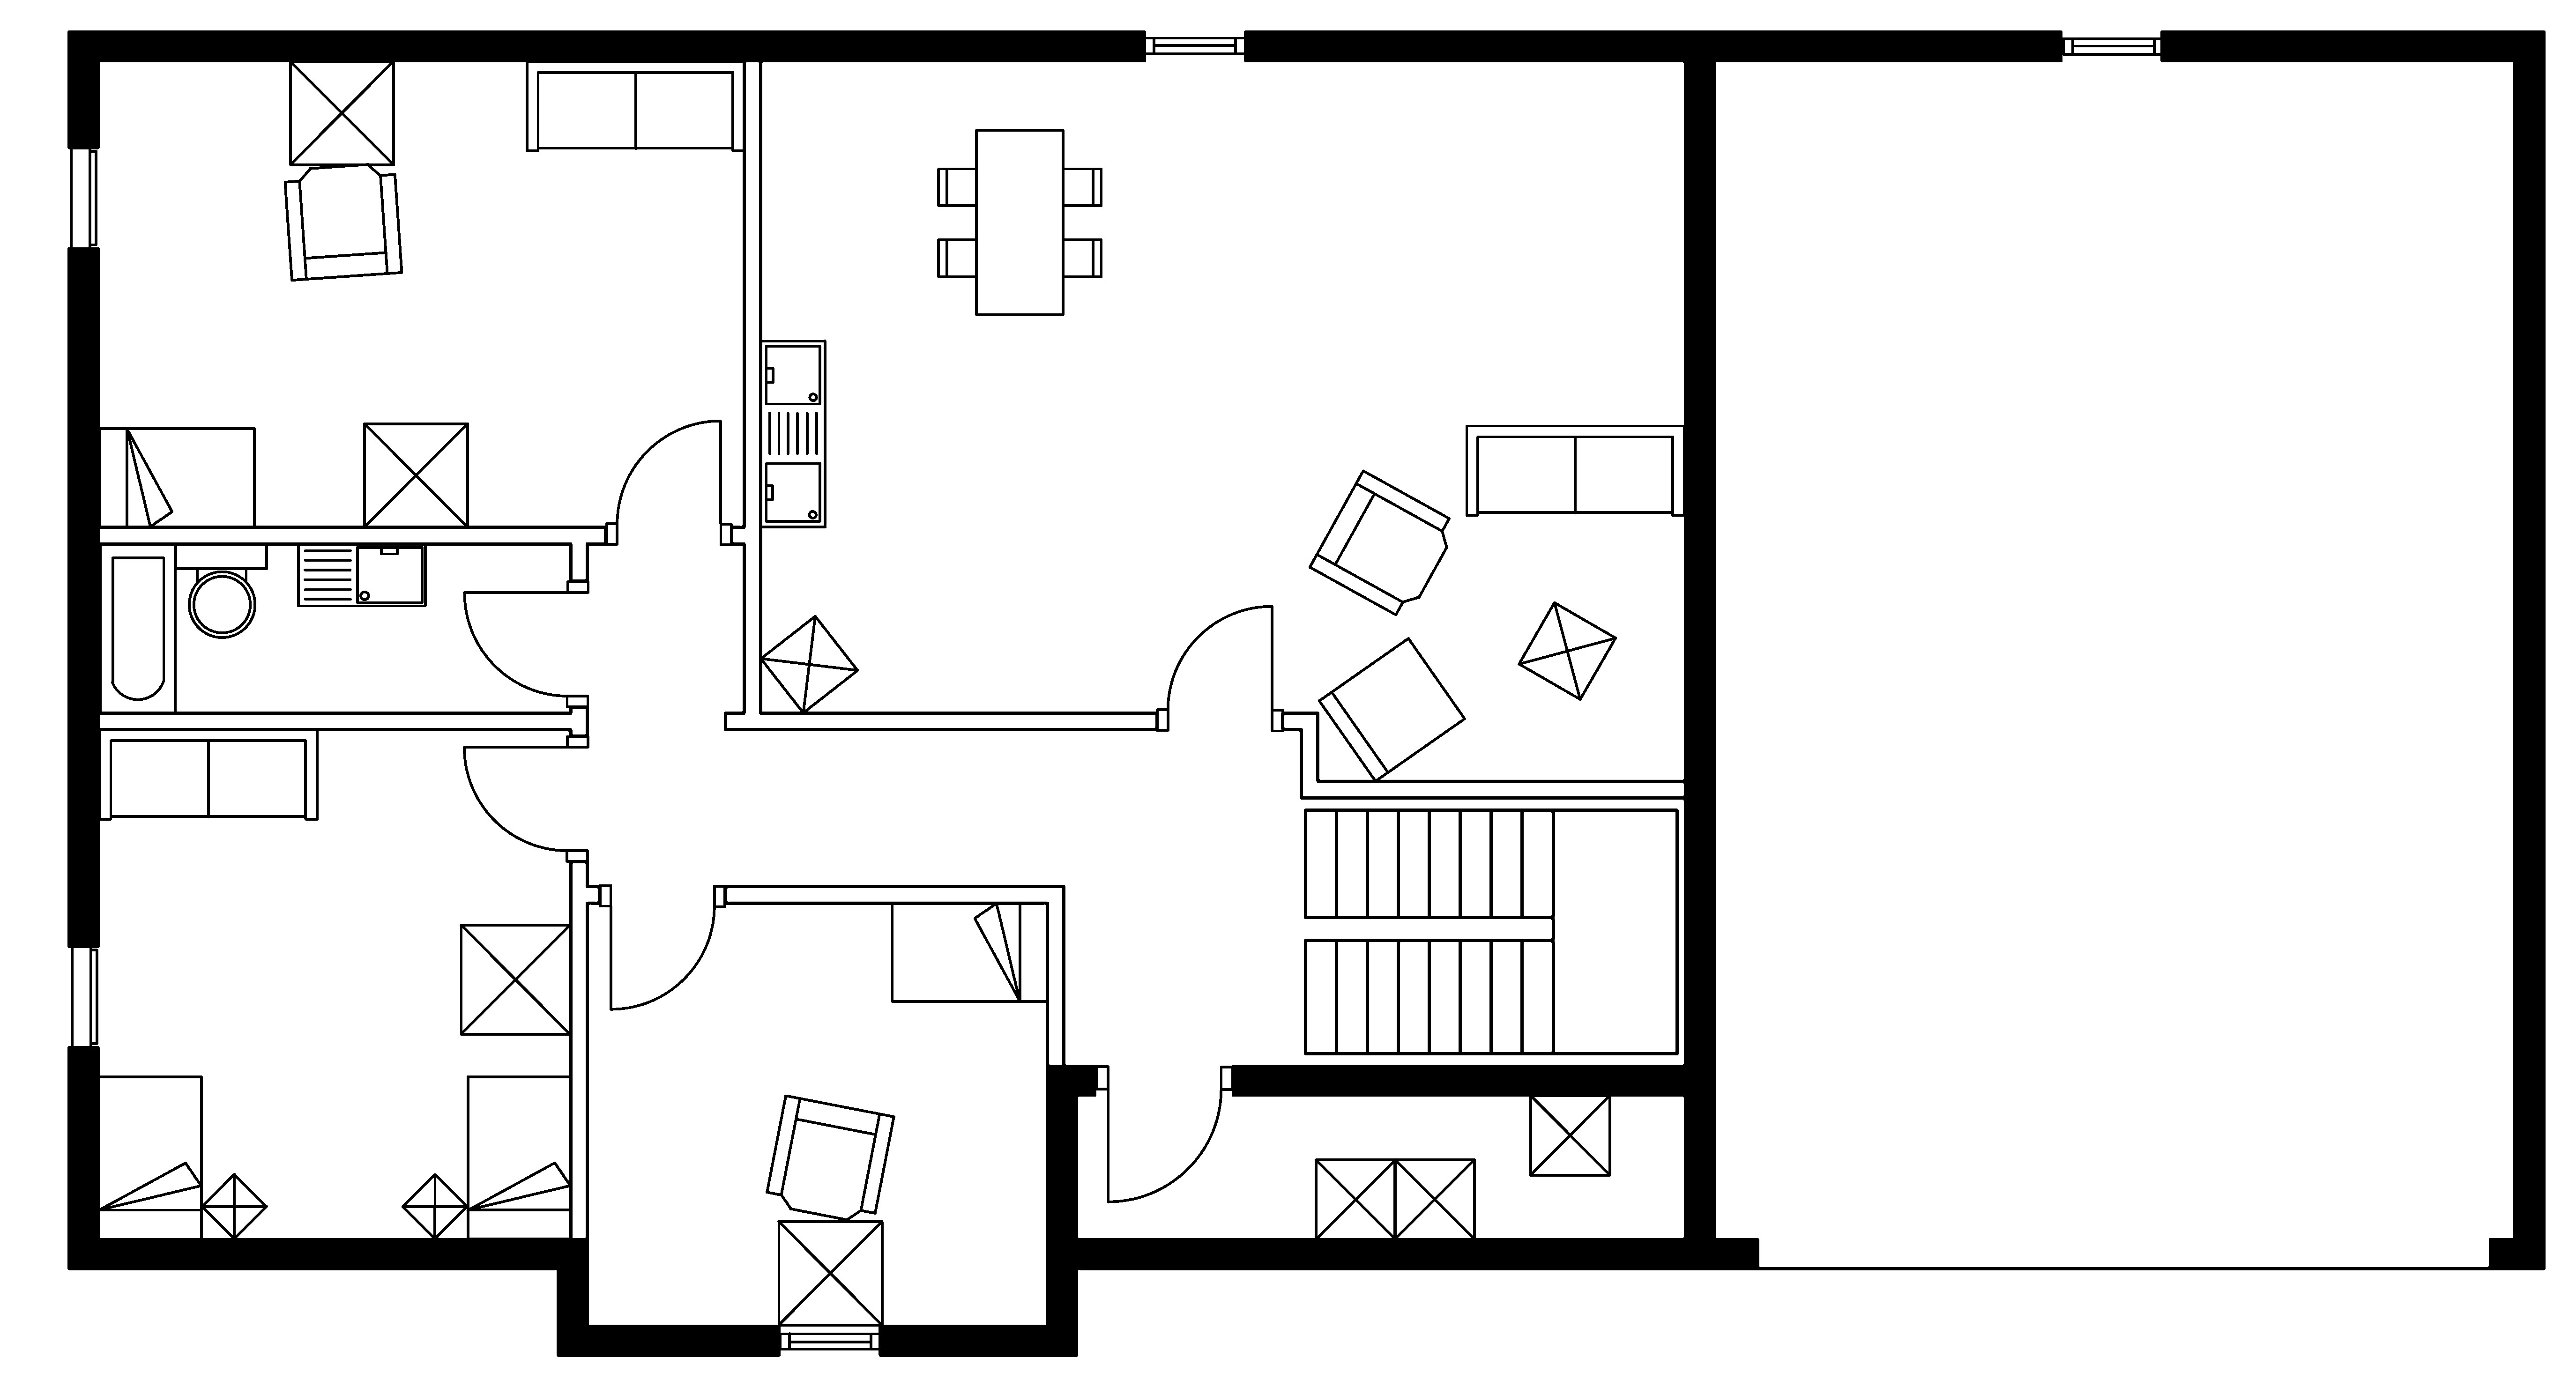armchair: (1307, 468, 1450, 617), (765, 1093, 895, 1221), (282, 162, 403, 282)
bed: (96, 1074, 203, 1240), (465, 1074, 572, 1240), (97, 425, 256, 530), (890, 900, 1049, 1003)
coffee_table: (458, 922, 572, 1035), (362, 422, 470, 530), (287, 58, 395, 166), (776, 1220, 883, 1327), (1517, 600, 1618, 702), (758, 613, 859, 714), (1527, 1093, 1613, 1177), (1392, 1156, 1476, 1240), (1314, 1156, 1397, 1240), (400, 1172, 470, 1240), (200, 1172, 268, 1240)
dining_table: (936, 128, 1104, 316)
large_sink: (173, 541, 268, 639)
large_sofa: (1464, 424, 1686, 516), (97, 728, 319, 820), (524, 60, 746, 152)
sink: (296, 541, 427, 608)
small_sofa: (1317, 635, 1467, 782)
tub: (97, 541, 178, 714)
twin_sink: (758, 338, 827, 530)
